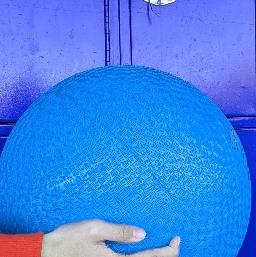algae: (0, 66, 247, 257)
